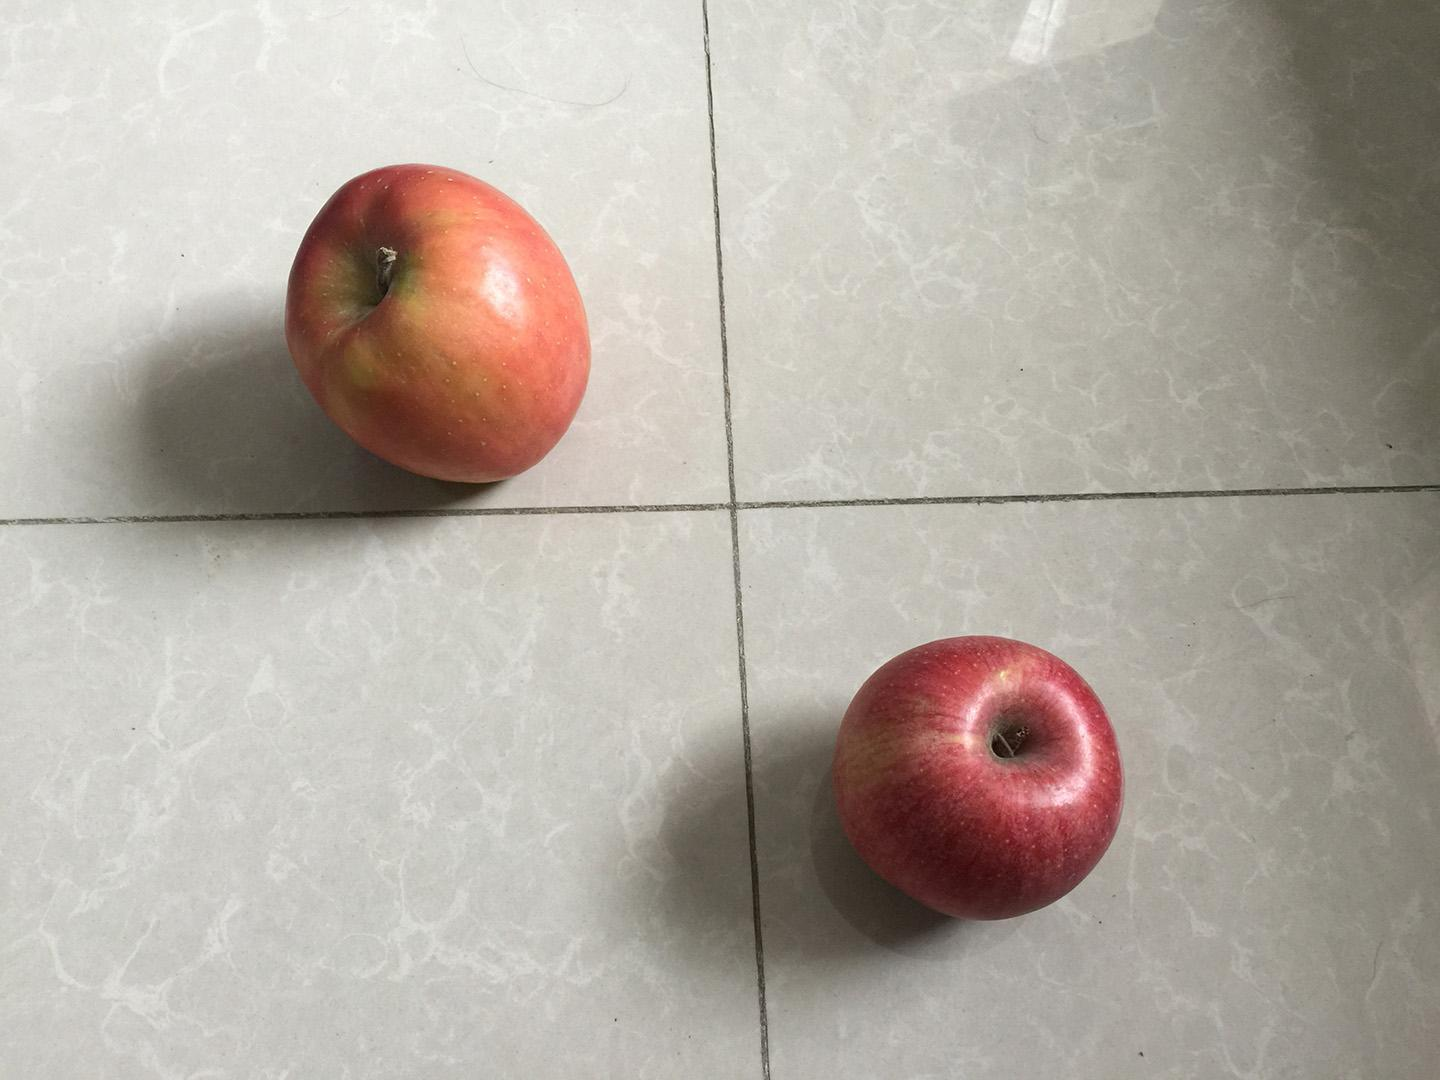apple: (276, 157, 603, 493), (822, 628, 1130, 928)
